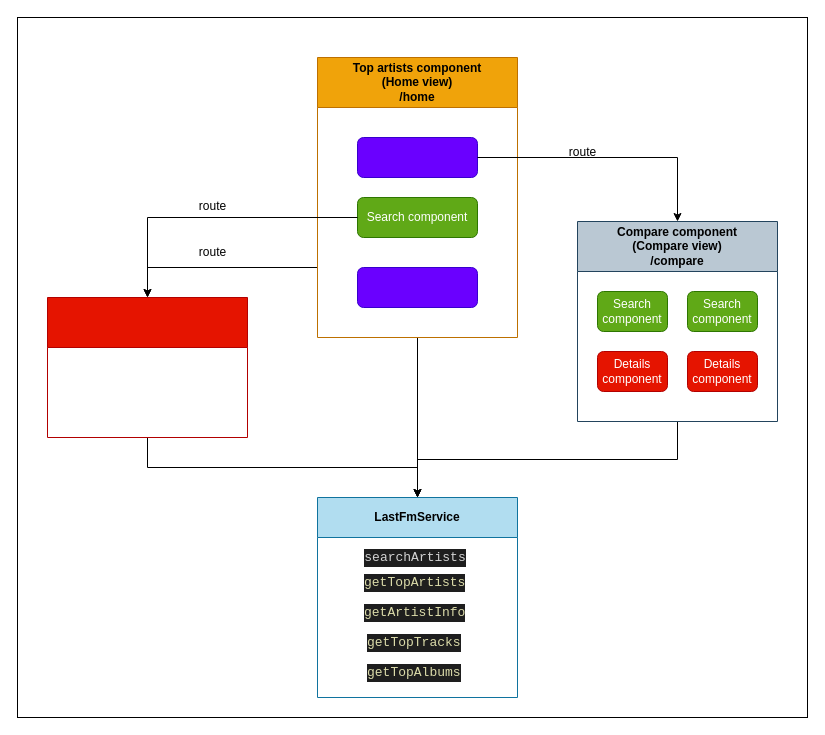
The diagram is 825 pixels wide and 735 high, and some of its shapes have lost their labels. The shapes that lost their labels are listed below. From the top down, each one's centre as x and y in pixels, then its label:
the point at 417,157: Toolbar component
the point at 417,287: Footer component
the point at 147,367: Details compontn (Details view) /details
